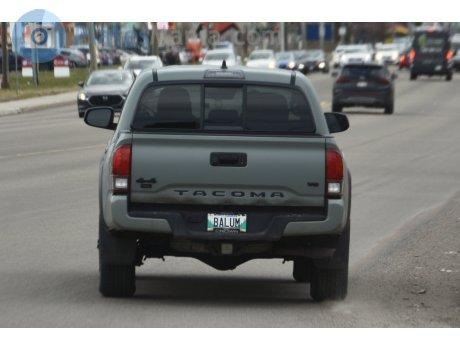licence: (203, 210, 249, 235)
